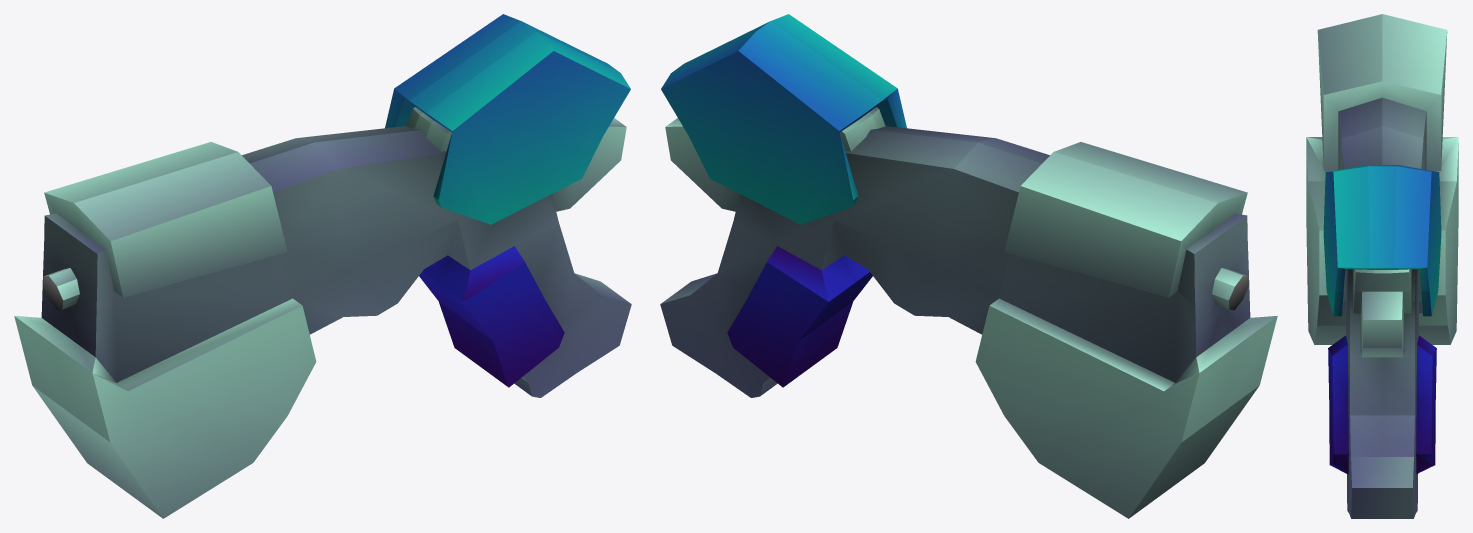
Rendered from gun.glb.
The picture shows the model from 3 angles, left to right: view 1: azimuth 30°, elevation 25°; view 2: azimuth 150°, elevation 25°; view 3: azimuth 270°, elevation 25°; orthographic projection. The views are drawn at different scales.
Visible parts, largest first — view 1: Cube1; view 2: Cube1; view 3: Cube1.
Part boxes in pixels (left/top/right/bottom): Cube1: left=14, top=14, right=631, bottom=518; Cube1: left=660, top=14, right=1277, bottom=518; Cube1: left=1306, top=14, right=1458, bottom=518.
Size of the model in its own units: 12.16 by 7.49 by 2.9.
1 material, 1 textured.
